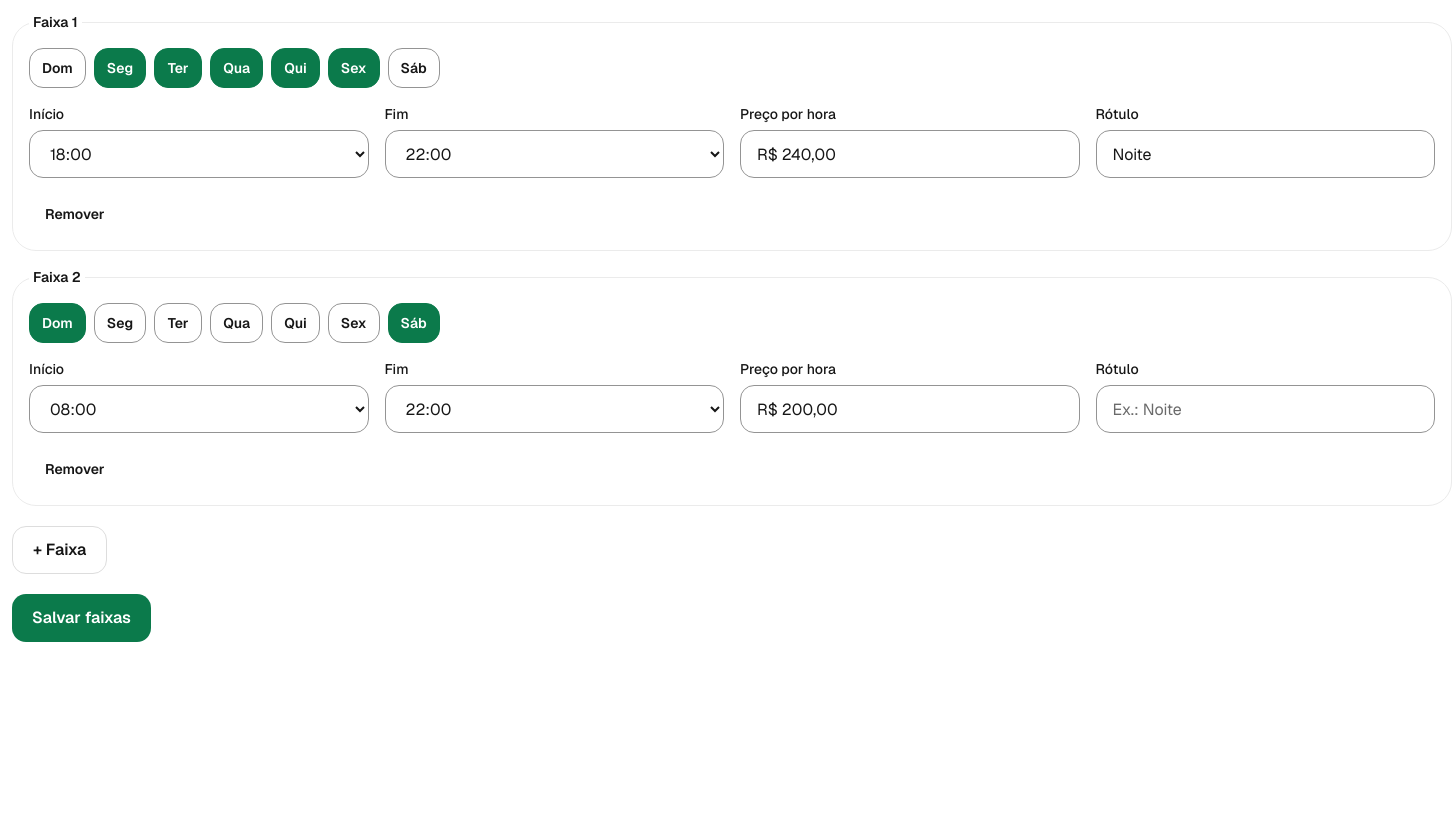
Test case: PriceRulesEditor › saves the full list with PUT and refreshes
Step 1. Click the button "Salvar faixas" → (81, 618), box x1=12 y1=594 x2=151 y2=642
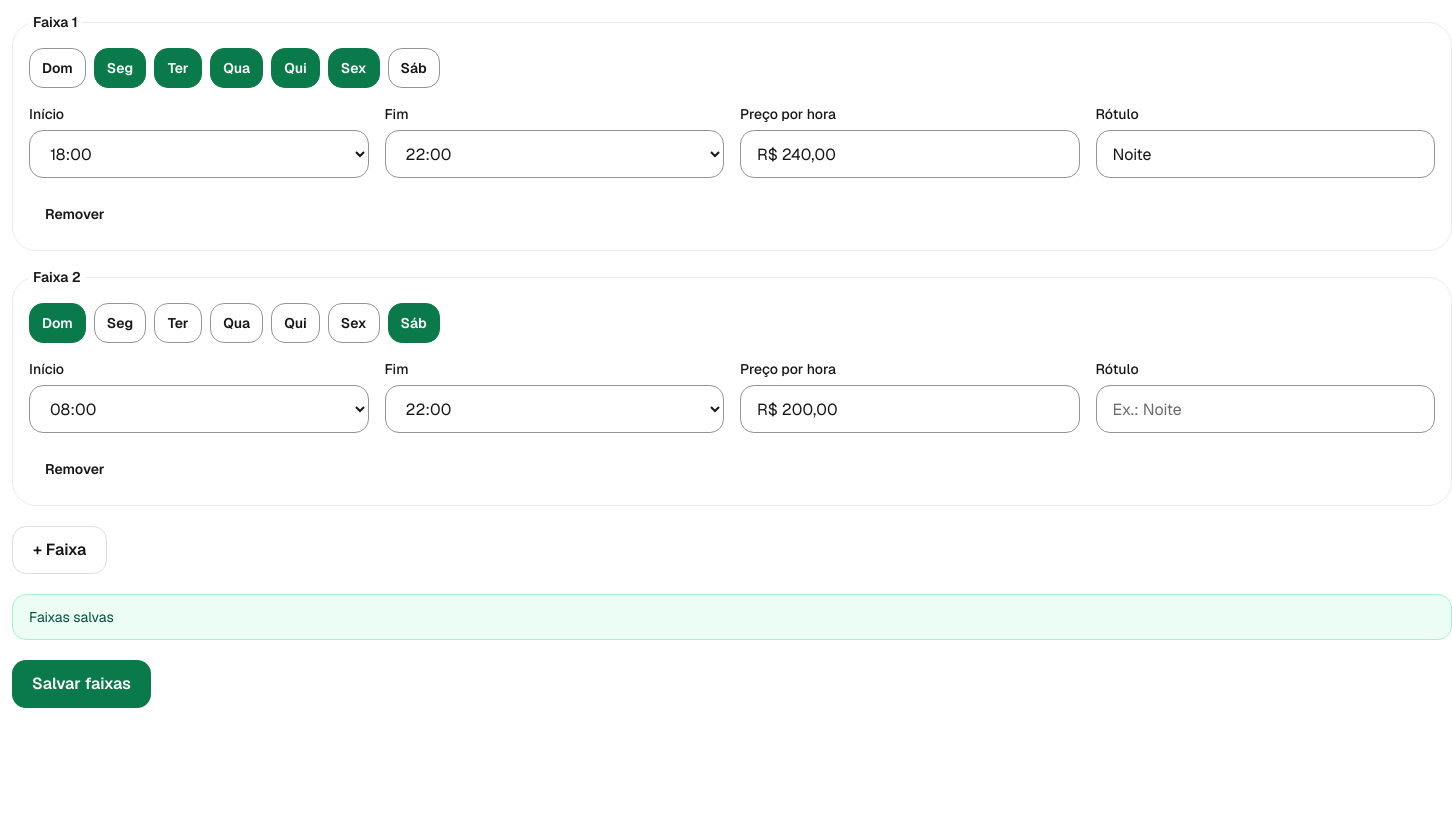
Expected: the message reads "Faixas salvas", x1=29 y1=608 x2=114 y2=626
